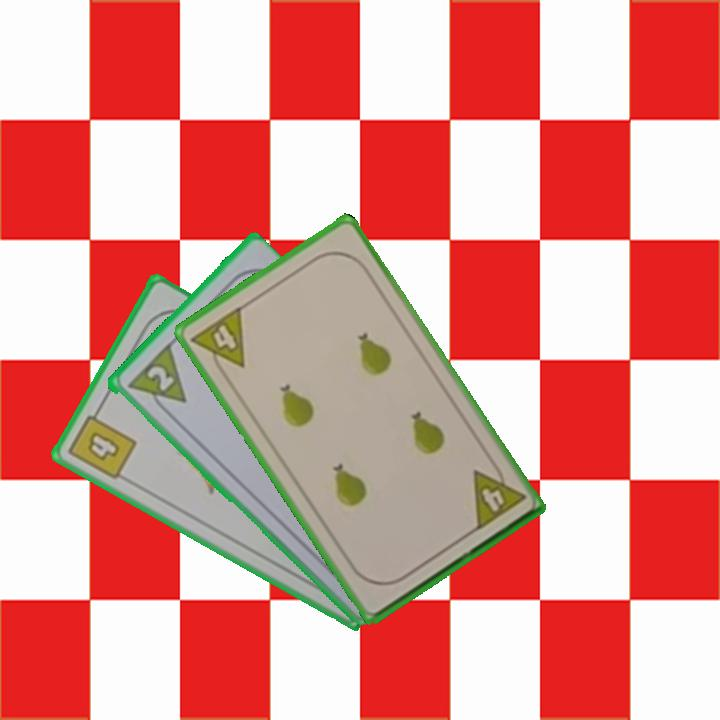2p: (123, 342, 189, 420)
4b: (64, 402, 140, 483)
4p: (187, 302, 248, 382), (468, 457, 528, 534)
